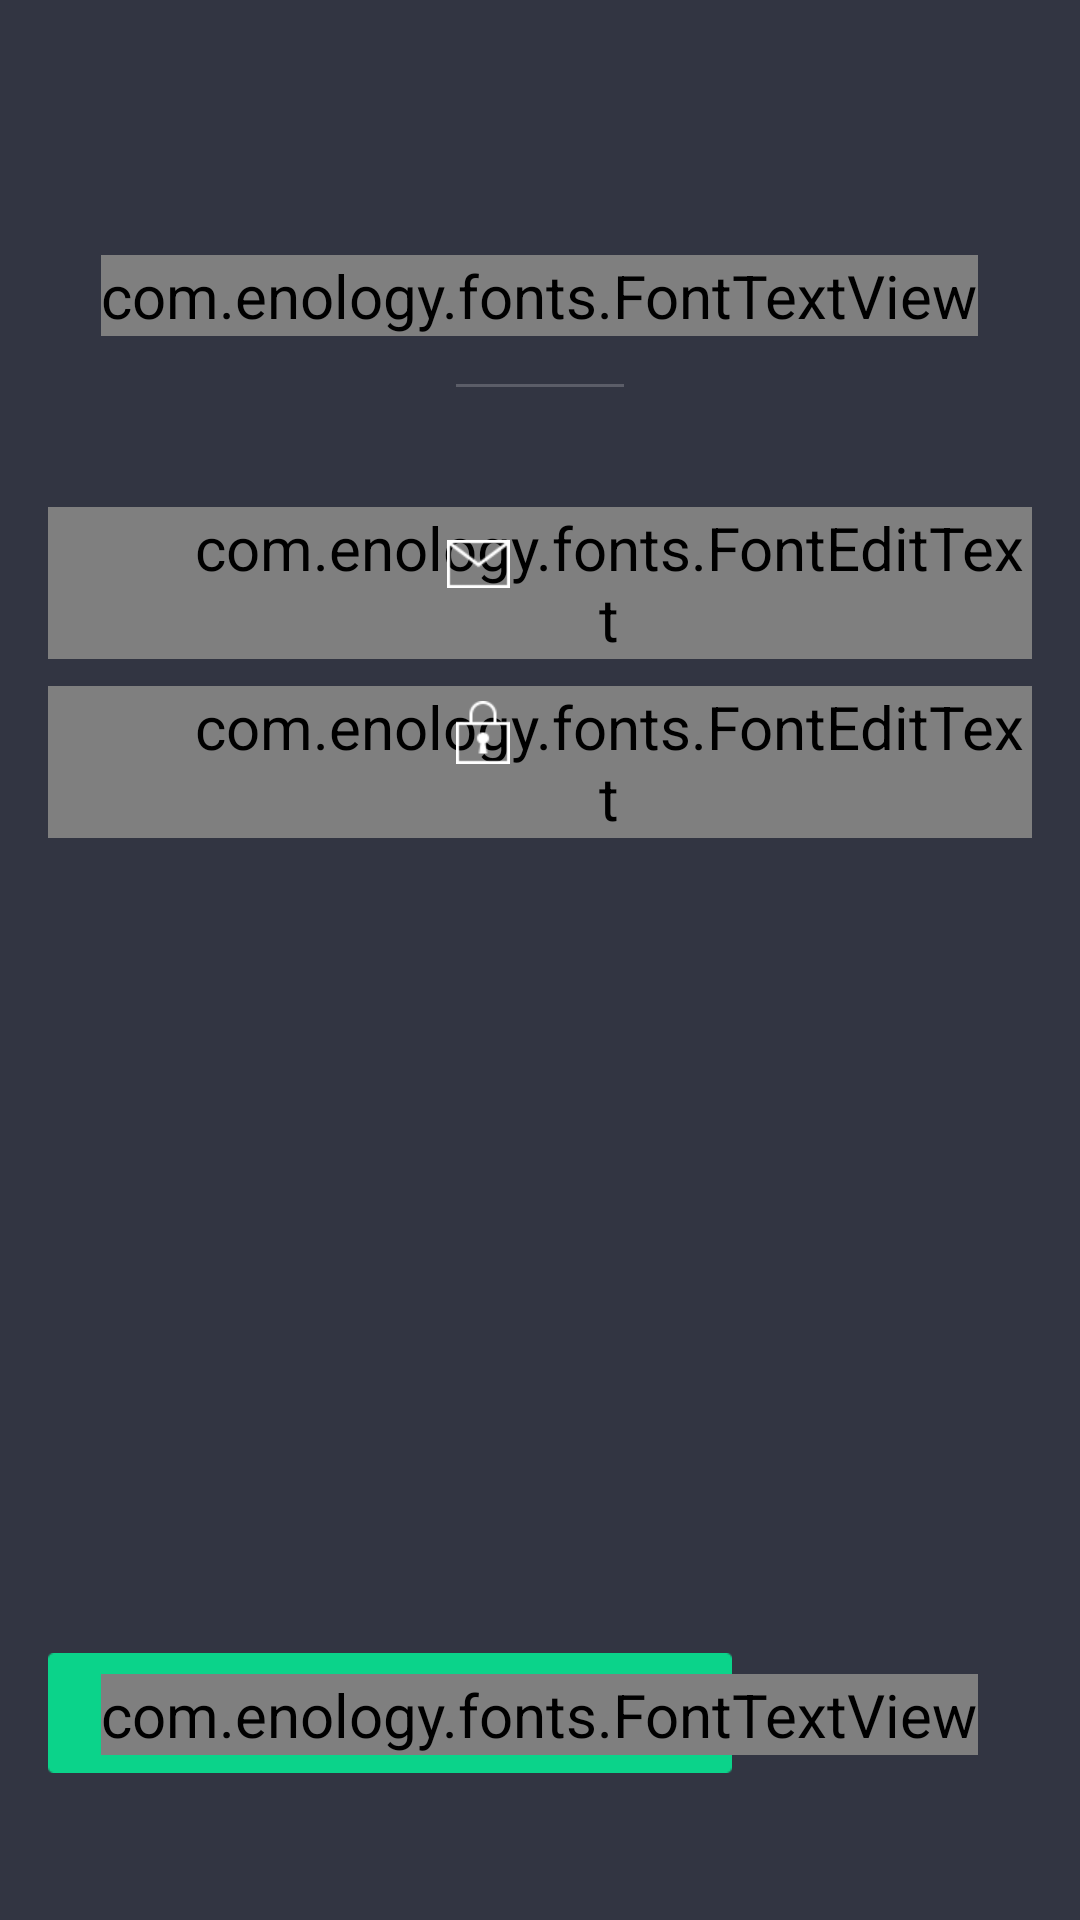

Screen size 1080×1920. Icon name, then its center in pixels as (x,y):
password: (483,732)
